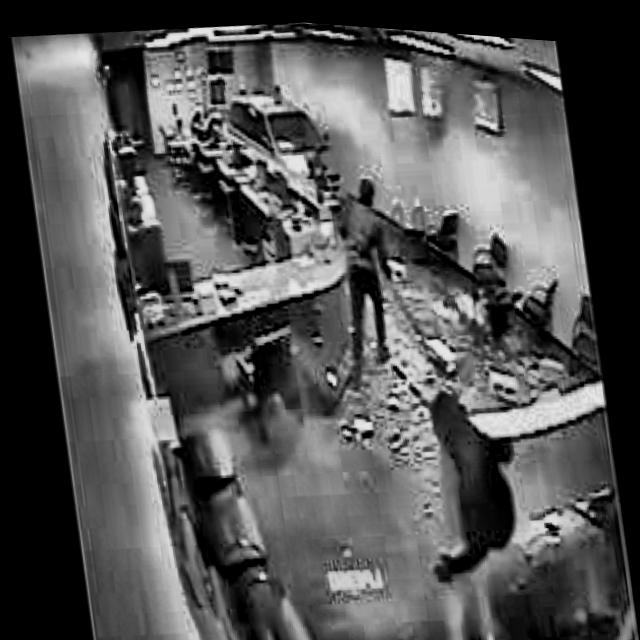burglary: (393, 364, 545, 640), (320, 164, 422, 370), (212, 69, 354, 215)
